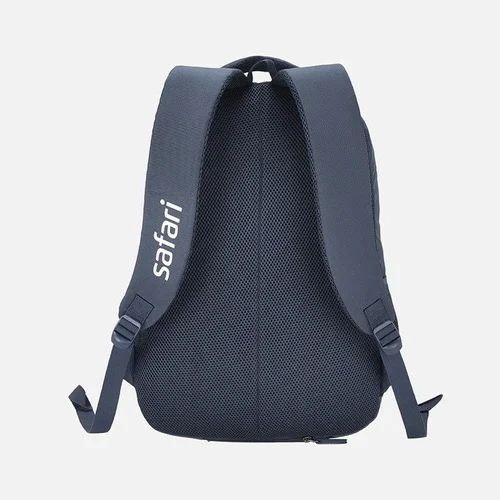backpack: (68, 54, 442, 445)
